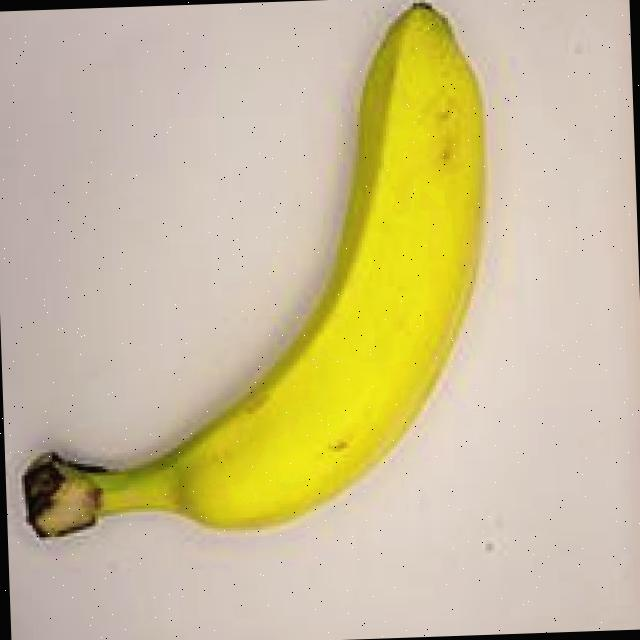Ripe: (0, 0, 535, 569)
